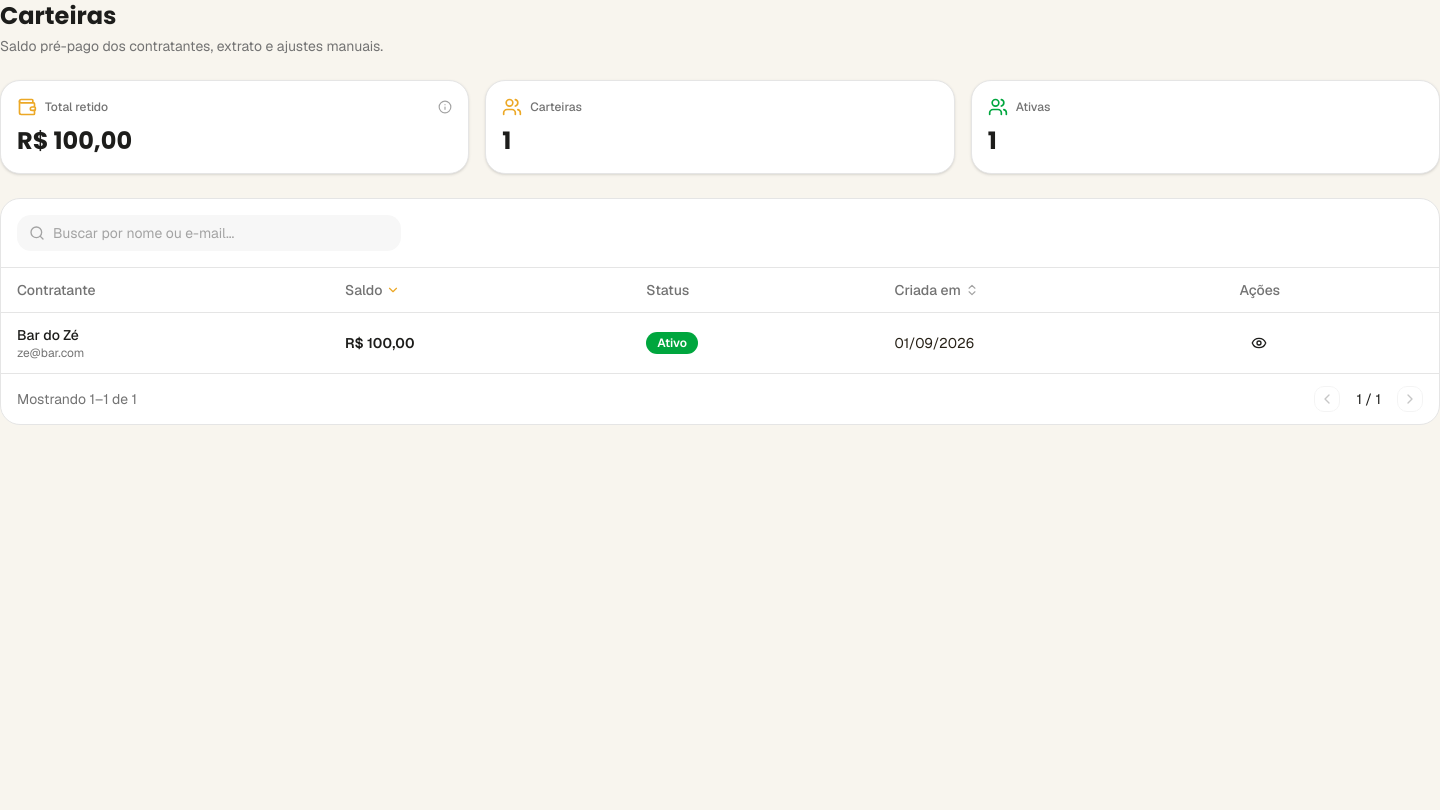
Carteiras — detalhe da carteira › rola por dentro no celular e a conferência do ajuste parte do saldo do extrato
Step 1. Click the button named "Ver carteira" → (1260,343), box [1240,327,1280,359]
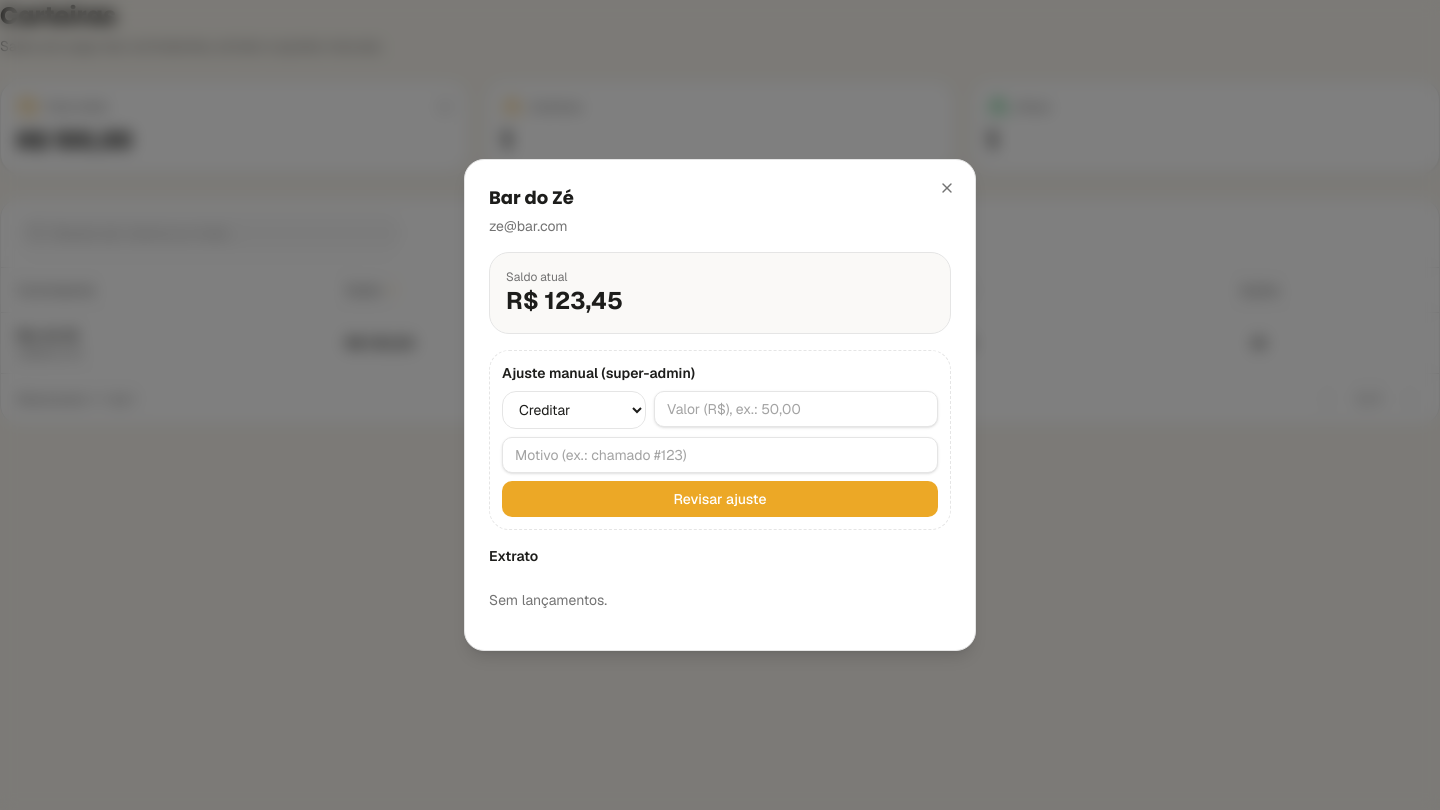
Step 2. Type "10,00" into the field labelled "Valor (R$)" → (796,409), box [654,391,938,427]
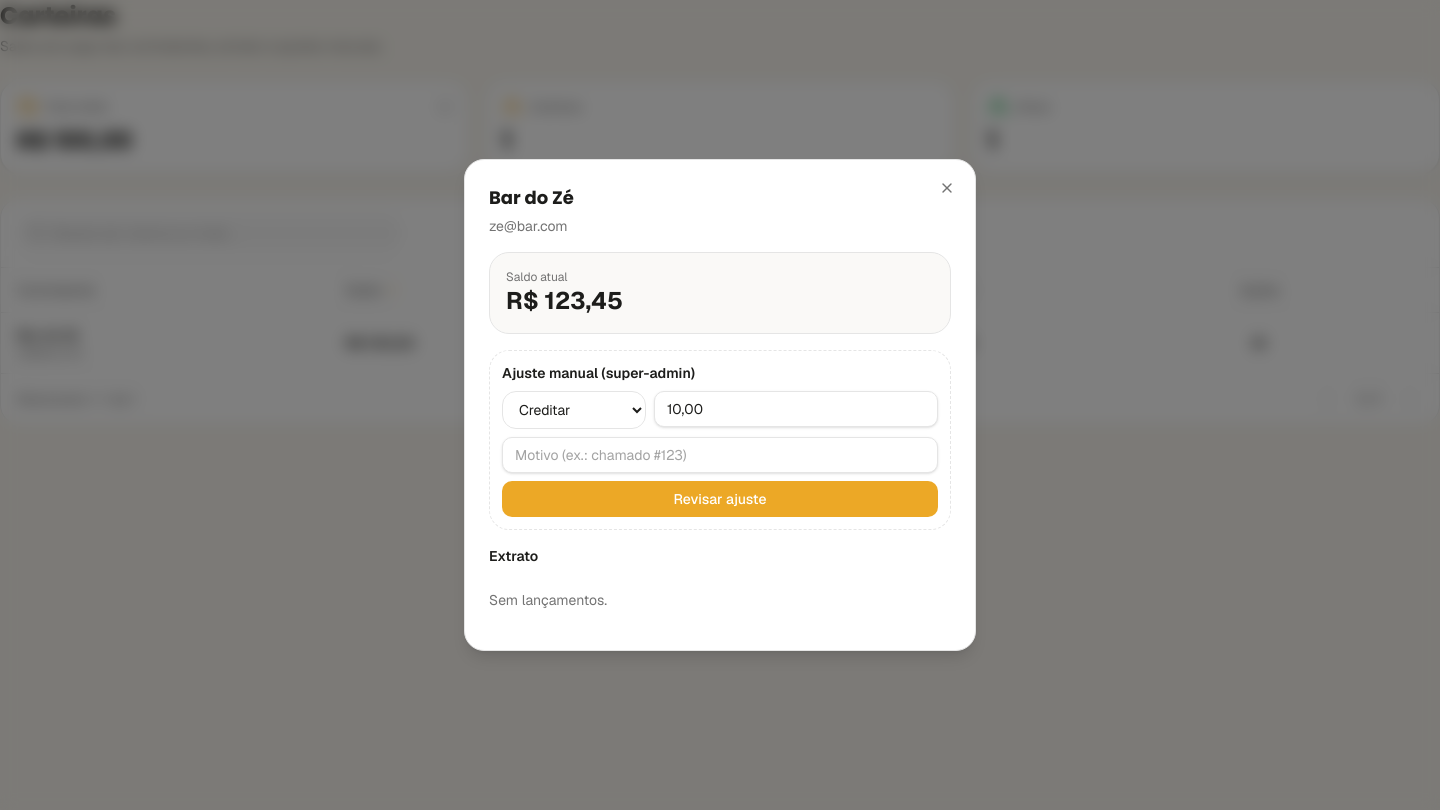
Step 3. Type "Chamado #9" into the field labelled "Motivo" → (720,455), box [502,437,938,473]
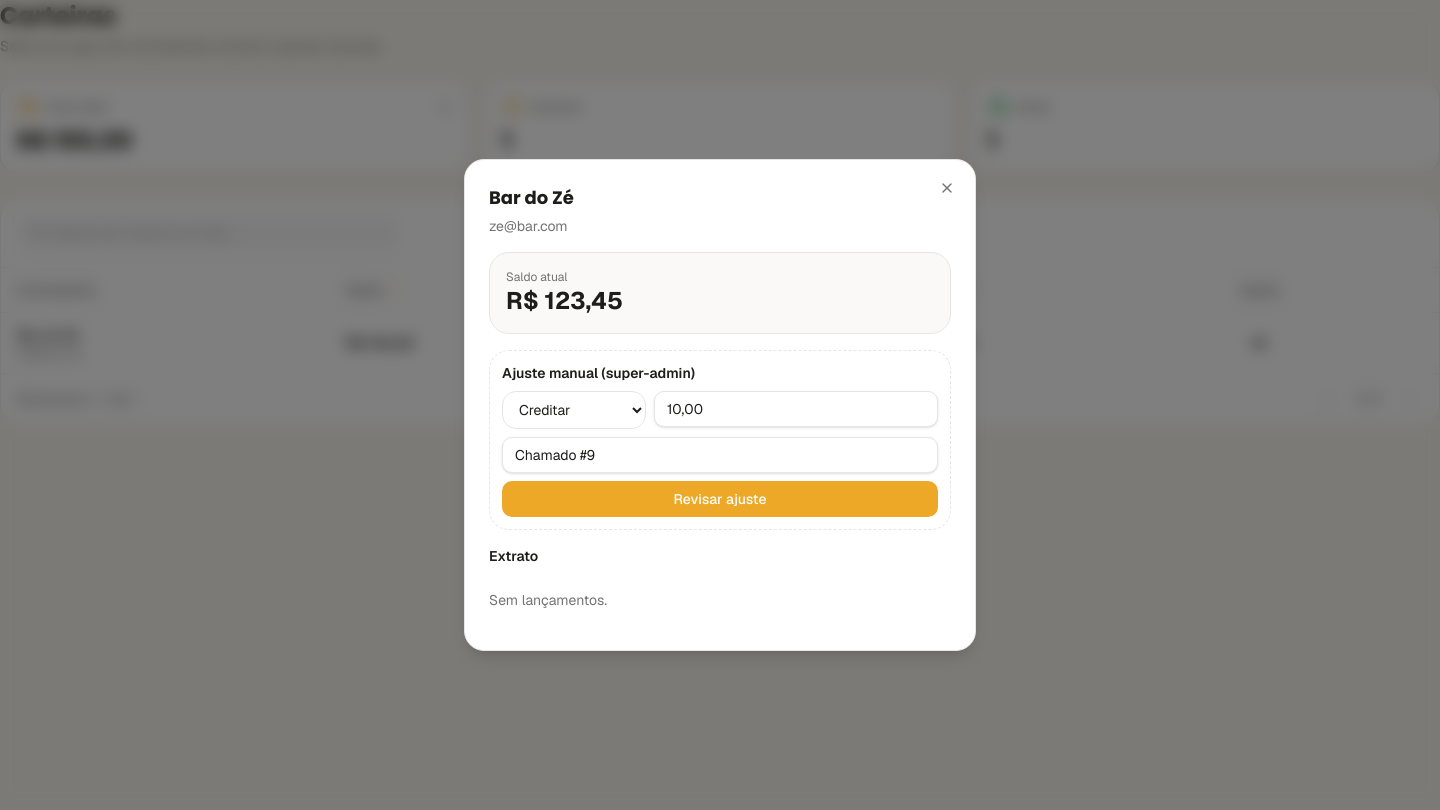
Step 4. Click the button "Revisar ajuste" → (720,499), box [502,481,938,517]
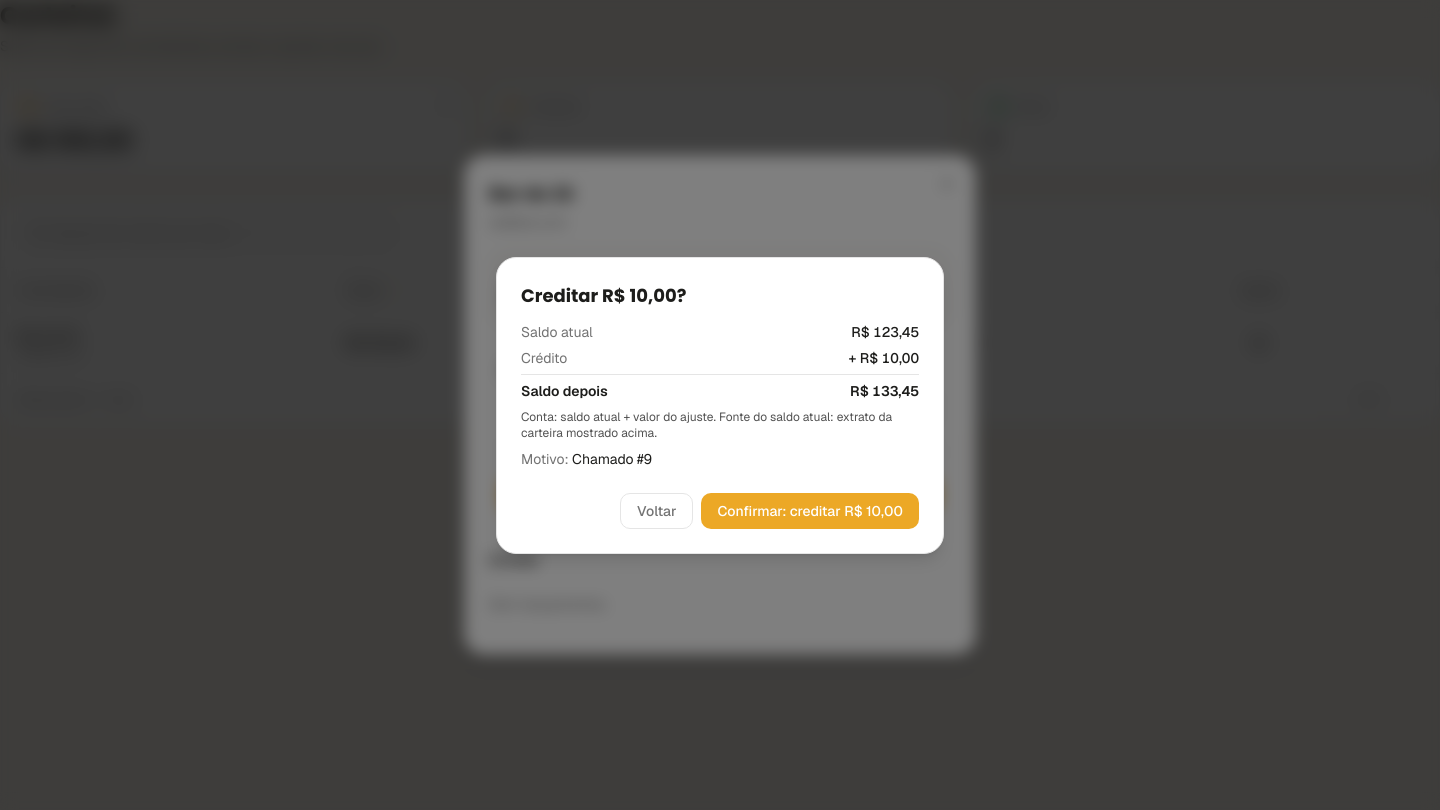
Check: the text with test id "wallet-adjust-after" reads "R$ 133,45", box [850,382,919,400]
